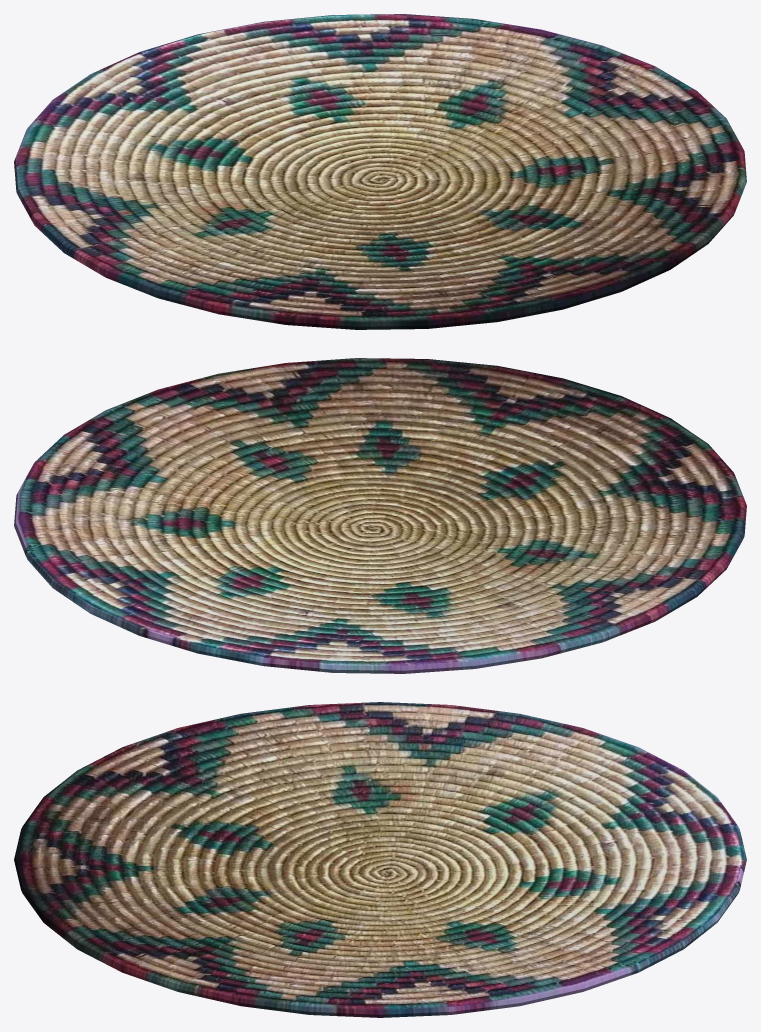
The model's file is Qash-Tray.fbx.
The picture shows the model from 3 angles, top to bottom: view 1: azimuth 30°, elevation 25°; view 2: azimuth 150°, elevation 25°; view 3: azimuth 270°, elevation 25°; orthographic projection.
Parts seen in each view (by area): view 1: Circle.001; view 2: Circle.001; view 3: Circle.001.
Boxes of the visible parts, x1=… form: Circle.001: x1=14, y1=14, x2=746, y2=329; Circle.001: x1=14, y1=358, x2=746, y2=673; Circle.001: x1=14, y1=702, x2=746, y2=1017.
Bounding box in the file's own units: 55.06 × 2.27 × 55.06.
Materials: 1 (1 with a texture image).
